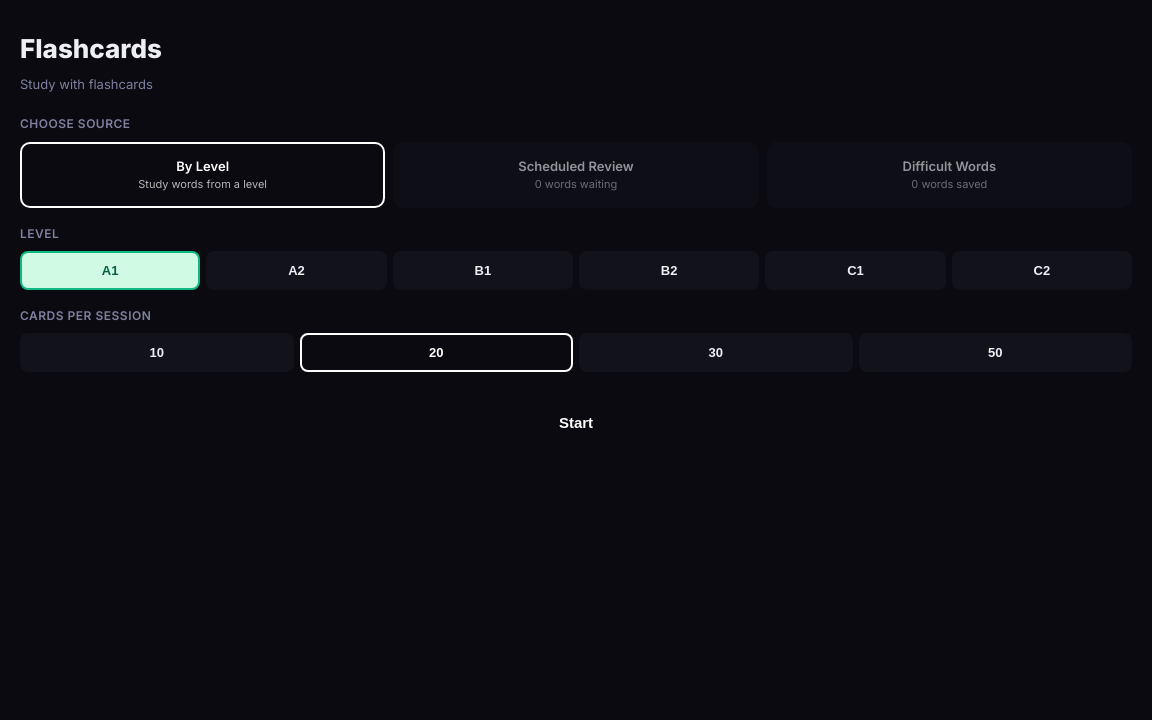
Test case: FlashcardsPage › Setup Screen › starts session on click
Click the button "Start".
click(576, 423)  # box [20,400,1132,445]
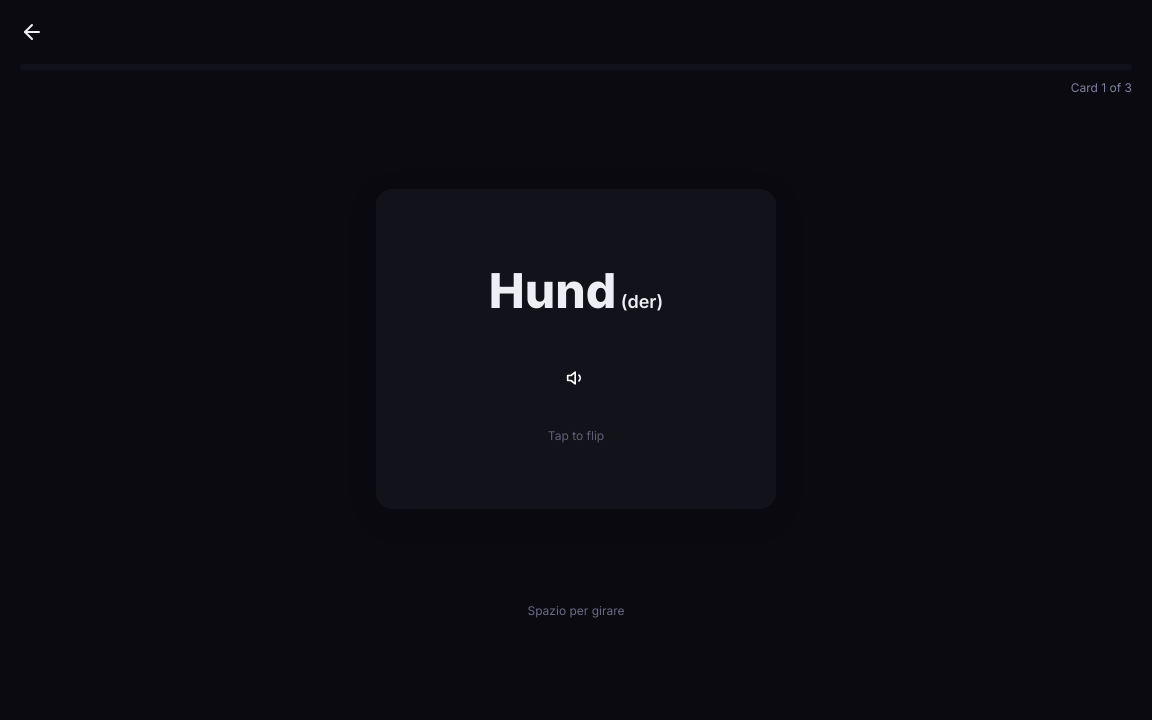
Now the text "Hund" is shown, box [489,261,616,320]
